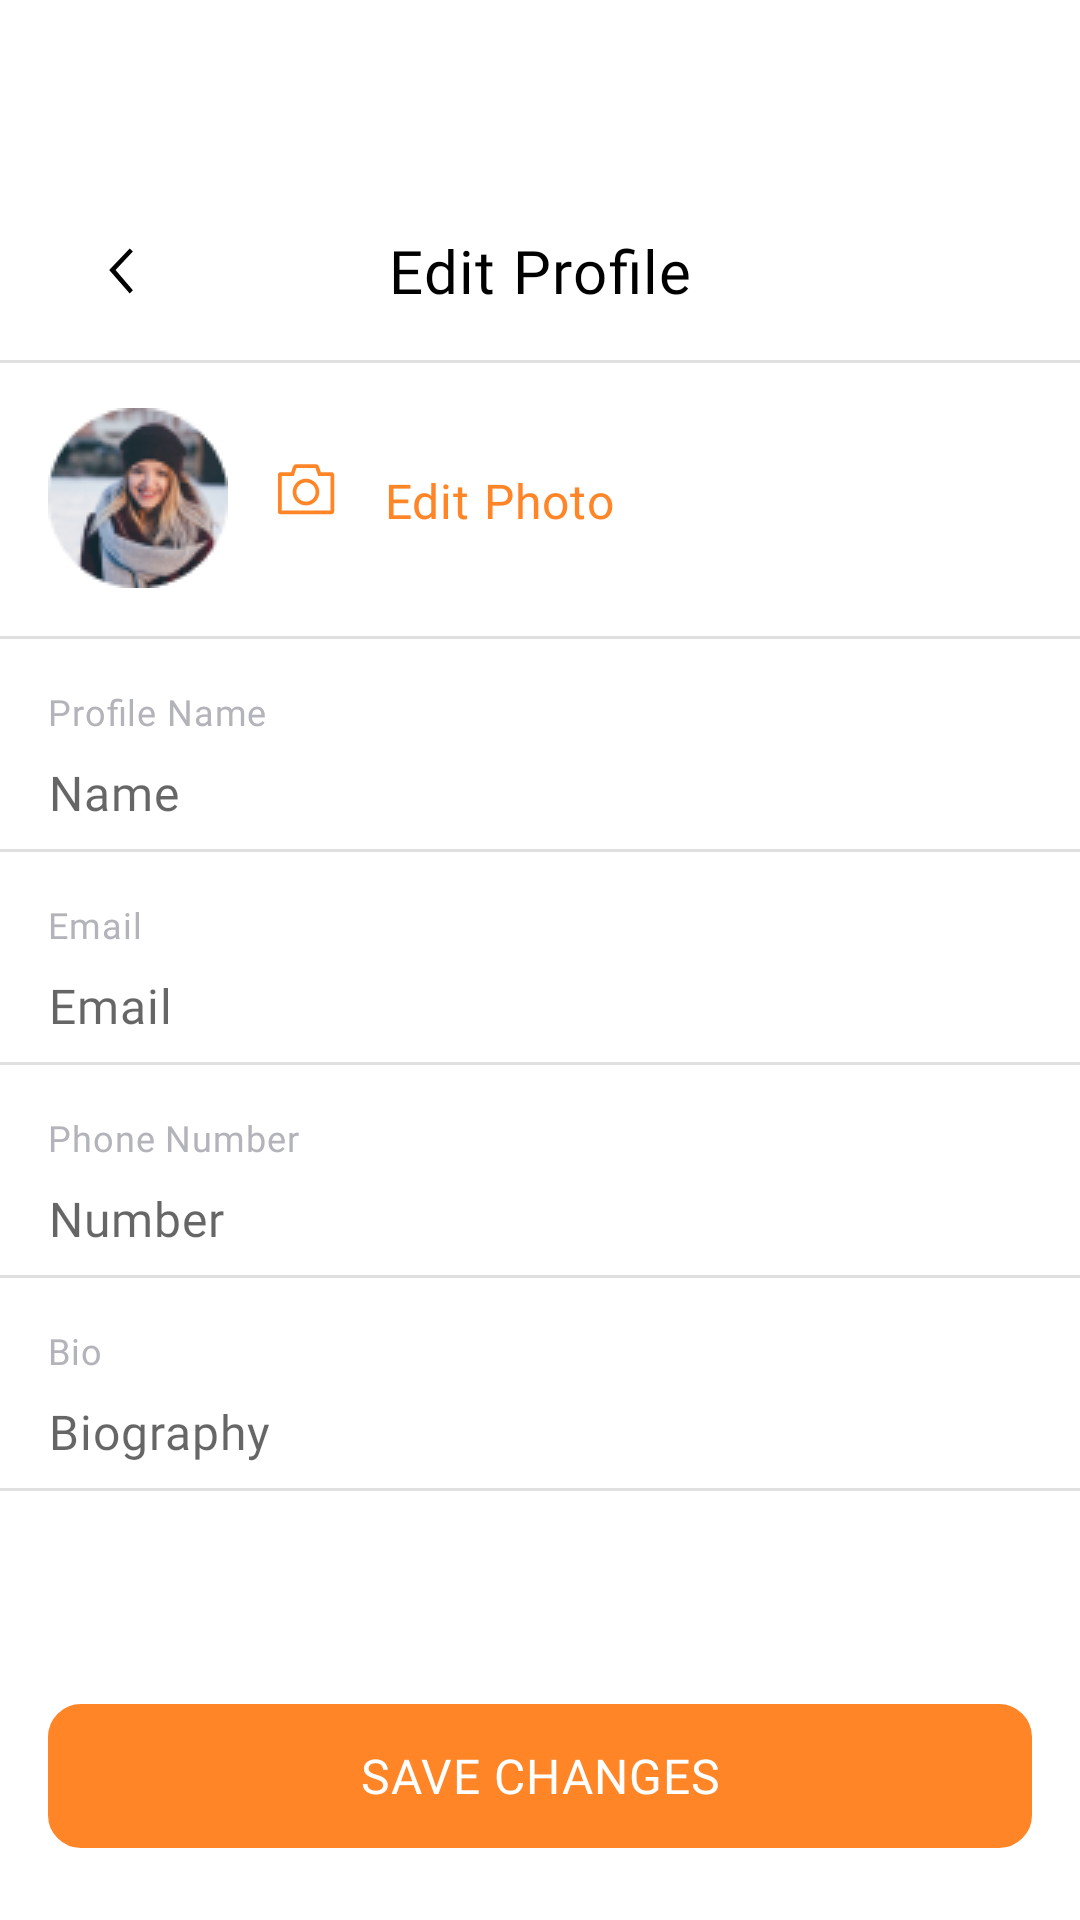

Icons on this 1080w x 1920h Android screen, each with the point to tap as [x,y]:
camera: [306,489]
